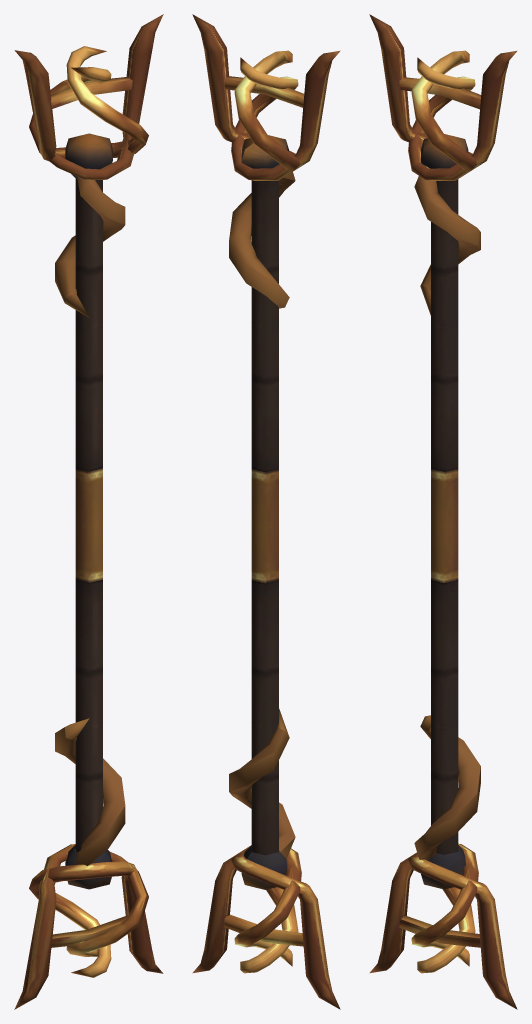
File: luxStaffDone2.fbx
The picture shows the model from 3 angles, left to right: view 1: azimuth 30°, elevation 25°; view 2: azimuth 150°, elevation 25°; view 3: azimuth 330°, elevation 25°; orthographic projection.
Visible parts, largest first — view 1: Model.001; view 2: Model.001; view 3: Model.001.
Part boxes in pixels (box(x1,y1,x2,y2)): Model.001: box(14, 14, 163, 1009); Model.001: box(192, 14, 340, 1009); Model.001: box(369, 14, 517, 1009).
Bounding box in the file's own units: 14.56 × 89.53 × 9.84.
